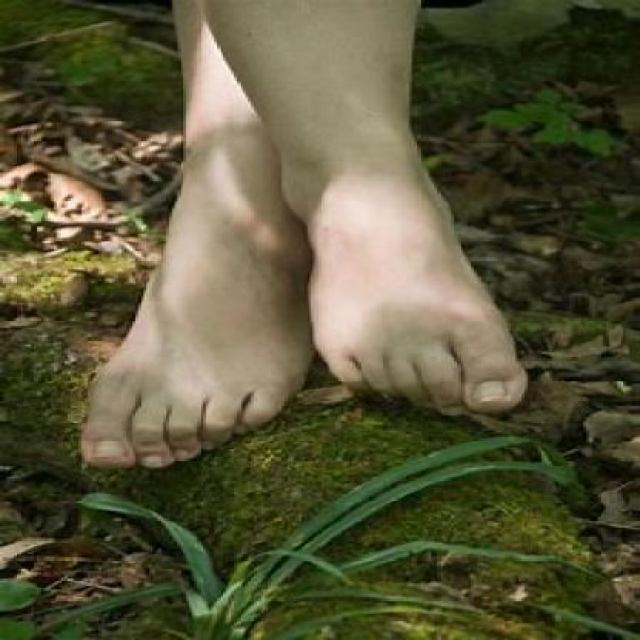No_Shoes: (74, 114, 310, 462), (283, 148, 528, 440)
